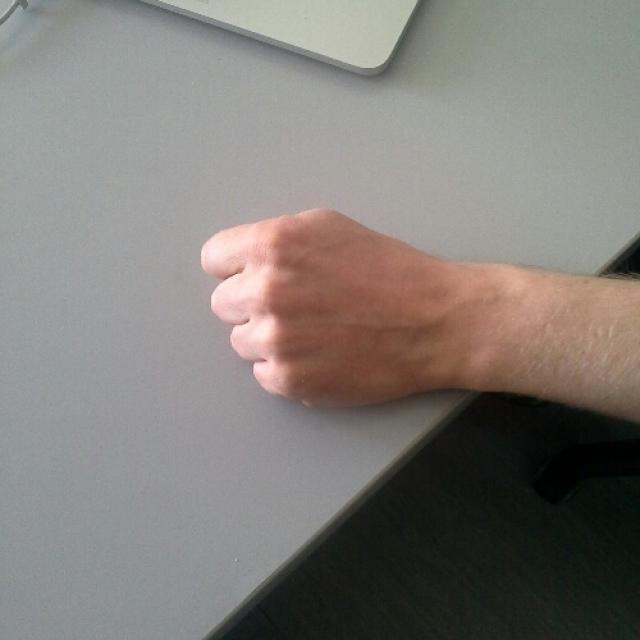fist: (198, 206, 448, 416)
